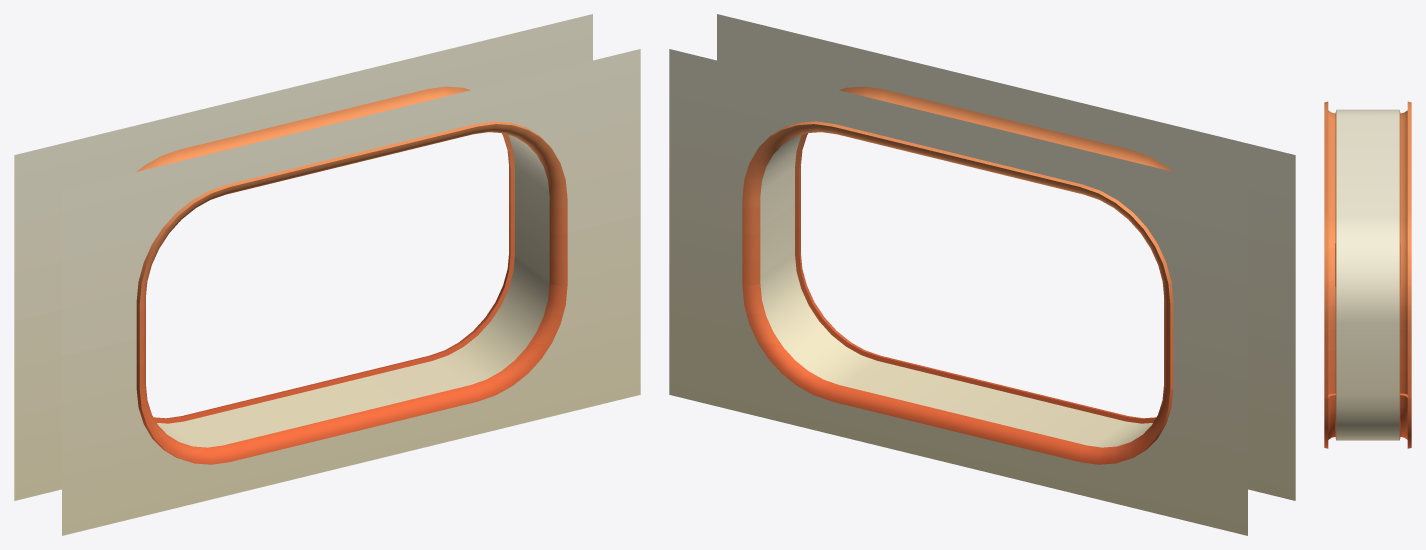
The model's file is sm_futuristic_window_4x3.fbx.
3 renders of one model, left to right at view 1: azimuth 30°, elevation 25°; view 2: azimuth 150°, elevation 25°; view 3: azimuth 270°, elevation 25°, orthographic. The views are drawn at different scales.
Parts seen in each view (by area): view 1: sm_futuristic_window_4x3; view 2: sm_futuristic_window_4x3; view 3: sm_futuristic_window_4x3.
Boxes of the visible parts, left/top/right/bottom form: sm_futuristic_window_4x3: left=14, top=14, right=640, bottom=535; sm_futuristic_window_4x3: left=669, top=14, right=1295, bottom=535; sm_futuristic_window_4x3: left=1324, top=101, right=1411, bottom=448.
Size of the model in its own units: 700 by 110 by 400.
